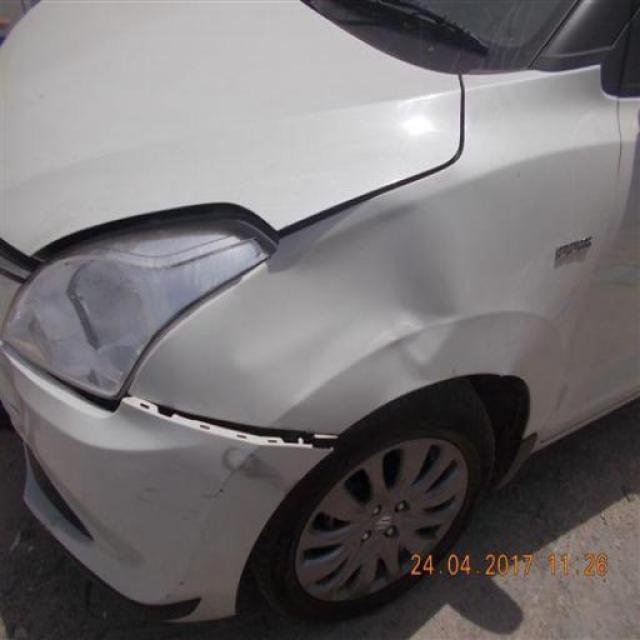dent: (235, 201, 463, 401), (221, 444, 294, 487)
tear: (117, 393, 335, 452)
